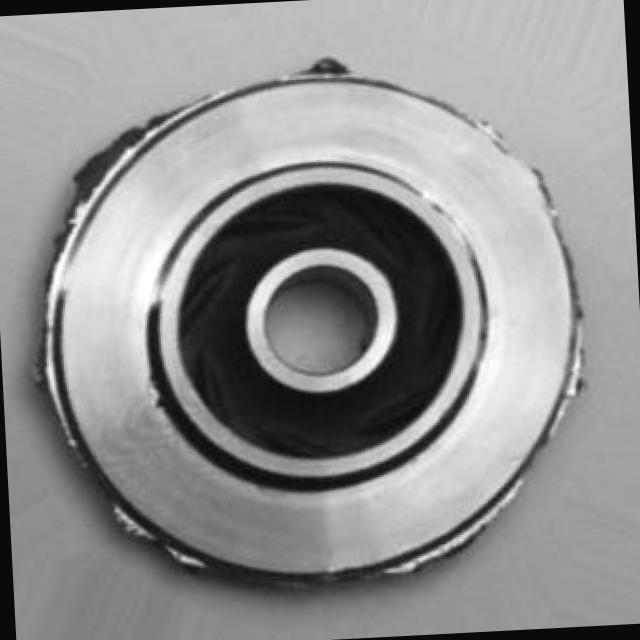Defect: (50, 130, 135, 200), (298, 40, 357, 92)
